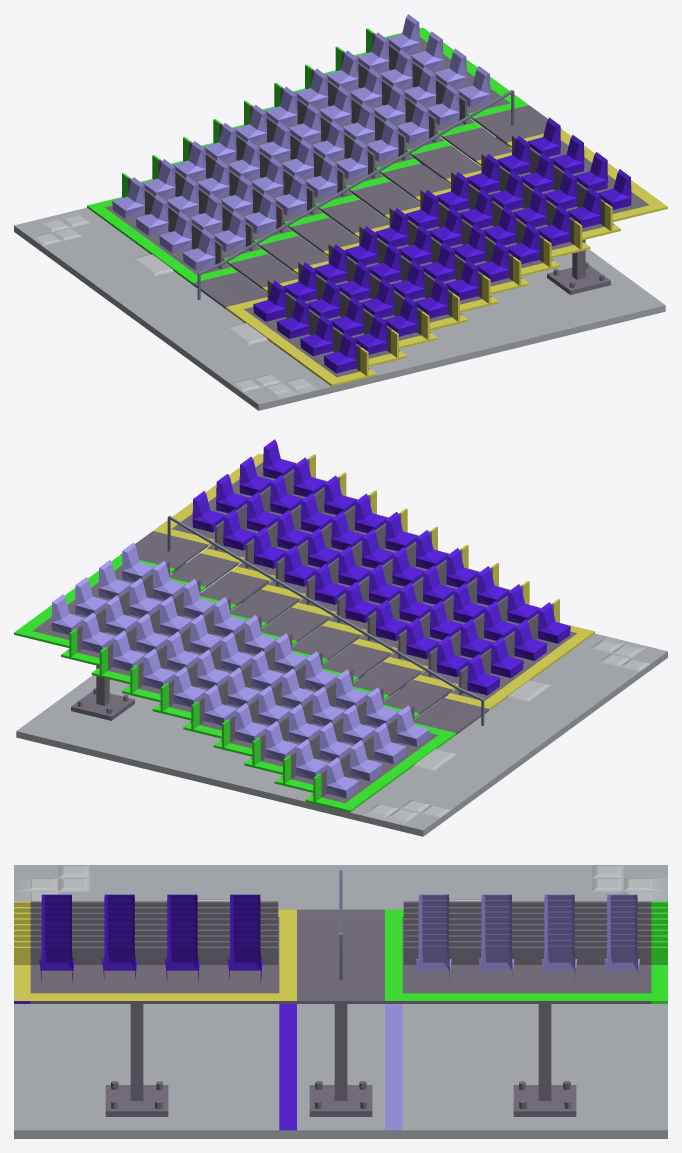
File: Stand_1E.fbx
The picture shows the model from 3 angles, top to bottom: view 1: azimuth 30°, elevation 25°; view 2: azimuth 150°, elevation 25°; view 3: azimuth 270°, elevation 25°; orthographic projection. The views are drawn at different scales.
Parts seen in each view (by area): view 1: Stand_1E; view 2: Stand_1E; view 3: Stand_1E.
Part boxes in pixels (left/top/right/bottom): Stand_1E: left=14, top=14, right=667, bottom=410; Stand_1E: left=14, top=439, right=667, bottom=836; Stand_1E: left=14, top=865, right=667, bottom=1138.
Size of the model in its own units: 2011 by 655 by 2083.
